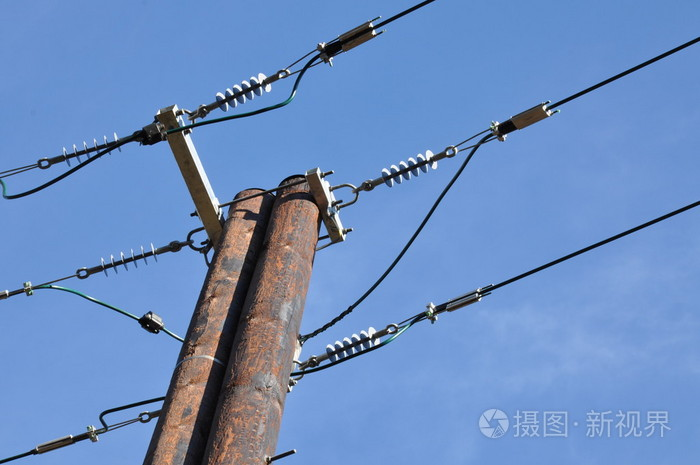insulator: (382, 147, 442, 188), (216, 70, 274, 111), (60, 131, 122, 168), (98, 241, 161, 276), (327, 325, 382, 363)
